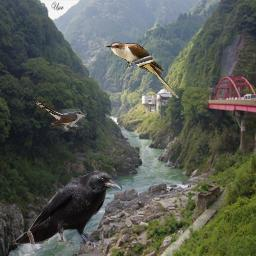Crow: (10, 170, 122, 254)
Cuckoo: (105, 42, 180, 99), (35, 99, 87, 132)
